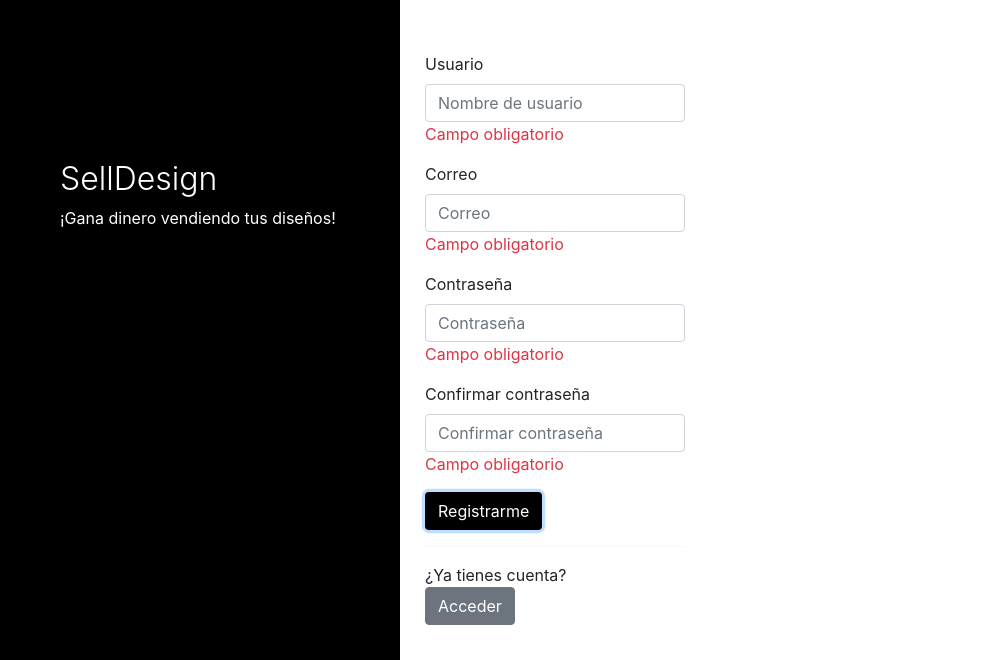
it: RegisterComponent › Deja Acceder a Login
The width and height of the screenshot is (1000, 660).
Click the button "Acceder": (470, 606) [425,587,515,625]
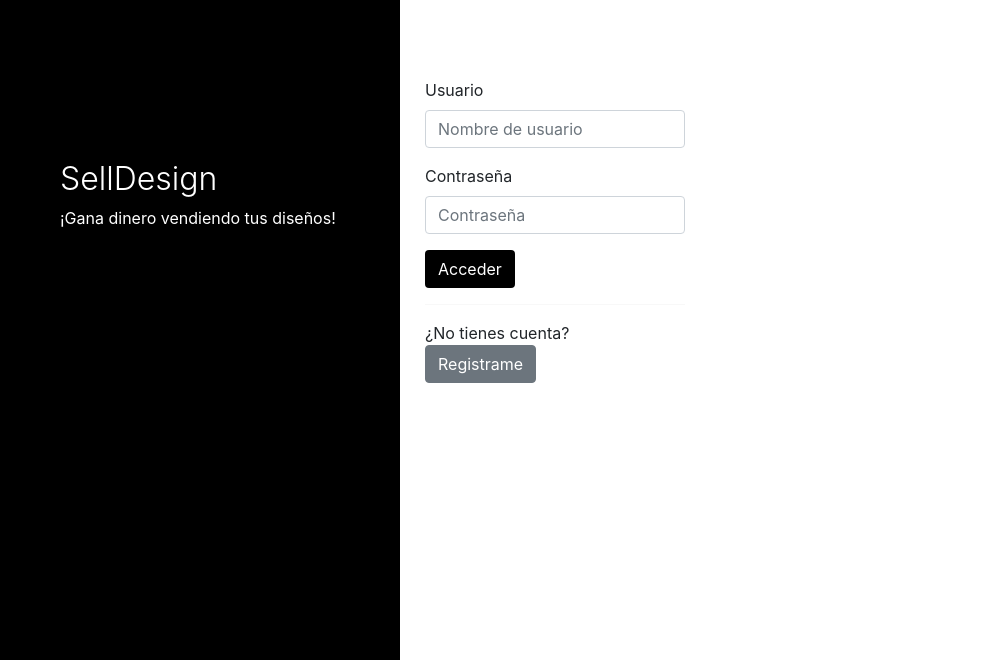
Result: the button "Acceder" is shown at [425,250,515,288]
